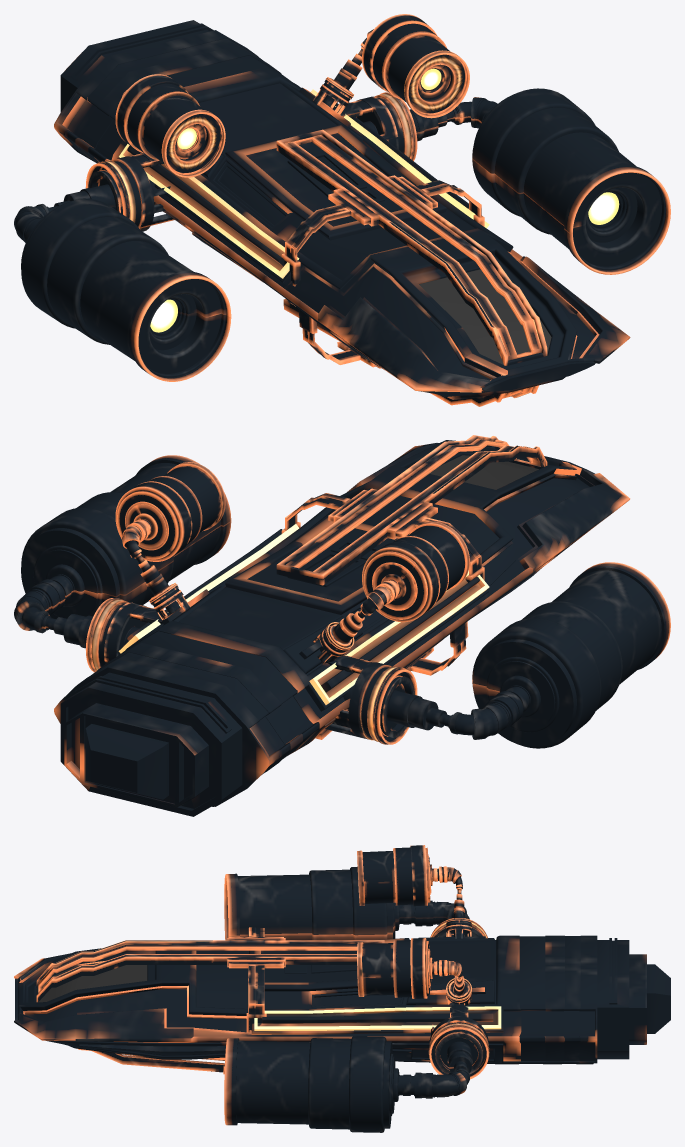
Rendered from space_ship.glb.
3 renders of one model, top to bottom at view 1: azimuth 30°, elevation 25°; view 2: azimuth 150°, elevation 25°; view 3: azimuth 270°, elevation 25°, orthographic. The views are drawn at different scales.
Visible parts, largest first — view 1: Cube, Cylinder_1_4, Cylinder_2, Cube_1, Cylinder, Cylinder_1_3, Cylinder_1_1_2, Cylinder_1_2, Cube_2, Cylinder_1, Cylinder_4, Cylinder_1_6; view 2: Cube, Cylinder_1_4, Cylinder_2, Cube_1, Cylinder_1_3, Cylinder, Cylinder_1_1_2, Cylinder_1_2, Cube_2, Cylinder_1_1, Cylinder_1; view 3: Cube, Cylinder_2, Cylinder_1_4, Cube_1, Cylinder_1_3, Cylinder, Cylinder_1_2, Cube_2, Cylinder_1_1, Cylinder_1.
Part boxes in pixels (box(x1,y1,x2,y2)): Cube: box(54, 20, 630, 399); Cylinder_1_4: box(14, 184, 231, 381); Cylinder_2: box(409, 88, 670, 274); Cube_1: box(276, 129, 547, 365); Cylinder: box(334, 14, 469, 118); Cylinder_1_3: box(115, 74, 225, 177); Cylinder_1_1_2: box(85, 153, 174, 231); Cylinder_1_2: box(333, 92, 417, 161); Cube_2: box(283, 299, 538, 406); Cylinder_1: box(312, 77, 353, 114); Cylinder_4: box(588, 192, 619, 224); Cylinder_1_6: box(150, 299, 177, 332); Cube: box(54, 440, 630, 816); Cylinder_1_4: box(387, 562, 670, 748); Cylinder_2: box(14, 455, 231, 648); Cube_1: box(276, 435, 547, 585); Cylinder_1_3: box(332, 521, 469, 643); Cylinder: box(115, 462, 225, 595); Cylinder_1_1_2: box(322, 654, 417, 744); Cylinder_1_2: box(85, 598, 169, 672); Cube_2: box(315, 621, 468, 739); Cylinder_1_1: box(312, 622, 354, 663); Cylinder_1: box(149, 583, 190, 620); Cube: box(14, 935, 670, 1064); Cylinder_2: box(224, 1036, 472, 1132); Cylinder_1_4: box(224, 866, 469, 940); Cube_1: box(36, 927, 384, 1032); Cylinder_1_3: box(357, 845, 464, 918); Cylinder: box(357, 938, 464, 998); Cylinder_1_2: box(428, 1002, 489, 1079); Cube_2: box(77, 1048, 225, 1074); Cylinder_1_1: box(446, 918, 471, 938); Cylinder_1: box(446, 978, 471, 1005).
Size of the model in its own units: 3.64 by 1.47 by 4.79.
Materials: 1 (1 with a texture image).
